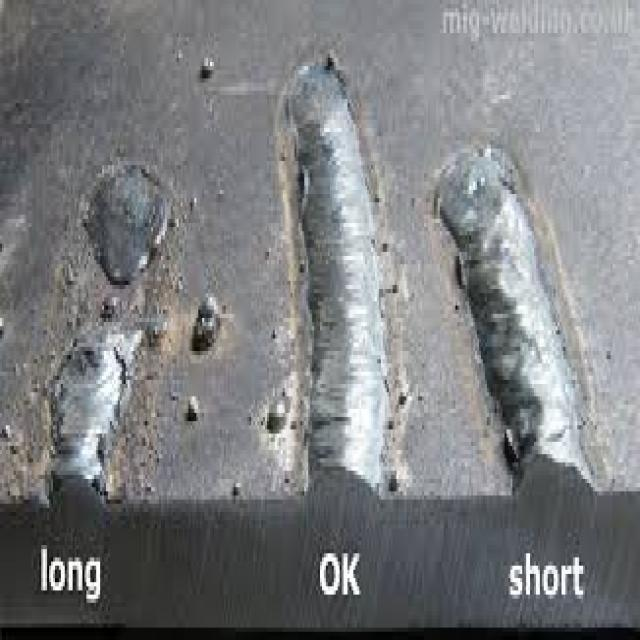Bad Weld: (39, 136, 165, 500)
Good Weld: (274, 41, 396, 500), (434, 140, 587, 483)
